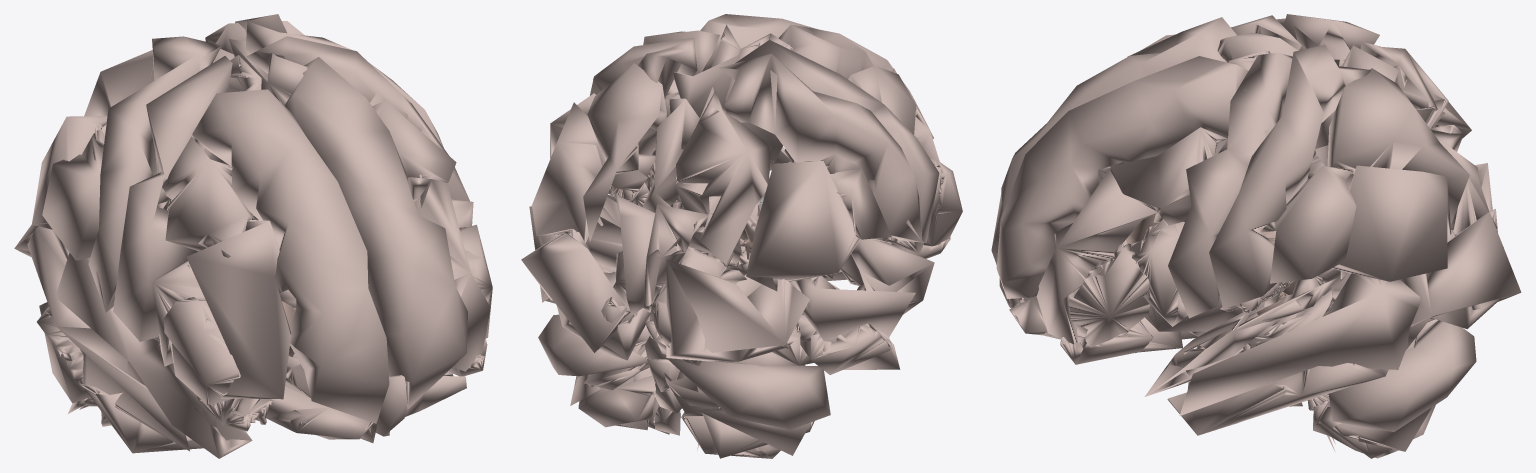
The model's file is atlas_nervous_mni152.nervous.LOD4.glb.
3 renders of one model, left to right at view 1: azimuth 30°, elevation 25°; view 2: azimuth 150°, elevation 25°; view 3: azimuth 270°, elevation 25°, orthographic. The views are drawn at different scales.
Parts seen in each view (by area): view 1: ATLAS.NERVOUS.MNI152.NERVOUS.SUPERIOR_FRONTAL_GYRUS.R, ATLAS.NERVOUS.MNI152.NERVOUS.SUPERIOR_FRONTAL_GYRUS.L, ATLAS.NERVOUS.MNI152.NERVOUS.PRECENTRAL_GYRUS.R, ATLAS.NERVOUS.MNI152.NERVOUS.ROSTRAL_MIDDLE_FRONTAL_GYRUS.R, ATLAS.NERVOUS.MNI152.NERVOUS.POSTCENTRAL_GYRUS.R, ATLAS.NERVOUS.MNI152.NERVOUS.SUPERIOR_TEMPORAL_GYRUS.R, ATLAS.NERVOUS.MNI152.NERVOUS.MIDDLE_TEMPORAL_GYRUS.R, ATLAS.NERVOUS.MNI152.NERVOUS.INFERIOR_FRONTAL_GYRUS_PARS_TRI (×2), ATLAS.NERVOUS.MNI152.NERVOUS.CAUDAL_MIDDLE_FRONTAL_GYRUS.R, ATLAS.NERVOUS.MNI152.NERVOUS.SUPRAMARGINAL_GYRUS.R, ATLAS.NERVOUS.MNI152.NERVOUS.PRECENTRAL_GYRUS.L, ATLAS.NERVOUS.MNI152.NERVOUS.ROSTRAL_MIDDLE_FRONTAL_GYRUS.L (+15 smaller); view 2: ATLAS.NERVOUS.MNI152.NERVOUS.INFERIOR_PARIETAL_LOBULE_ANGULA (×2), ATLAS.NERVOUS.MNI152.NERVOUS.POSTCENTRAL_GYRUS.R, ATLAS.NERVOUS.MNI152.NERVOUS.LATERAL_OCCIPITAL_CORTEX.R, ATLAS.NERVOUS.MNI152.NERVOUS.SUPERIOR_PARIETAL_LOBULE.R, ATLAS.NERVOUS.MNI152.NERVOUS.CRUS_I.R, ATLAS.NERVOUS.MNI152.NERVOUS.SUPERIOR_PARIETAL_LOBULE.L, ATLAS.NERVOUS.MNI152.NERVOUS.LATERAL_OCCIPITAL_CORTEX.L, ATLAS.NERVOUS.MNI152.NERVOUS.PRECENTRAL_GYRUS.R, ATLAS.NERVOUS.MNI152.NERVOUS.MIDDLE_TEMPORAL_GYRUS.R, ATLAS.NERVOUS.MNI152.NERVOUS.CUNEUS.R, ATLAS.NERVOUS.MNI152.NERVOUS.SUPERIOR_TEMPORAL_GYRUS.R, ATLAS.NERVOUS.MNI152.NERVOUS.INFERIOR_TEMPORAL_GYRUS.R (+33 smaller); view 3: ATLAS.NERVOUS.MNI152.NERVOUS.SUPERIOR_FRONTAL_GYRUS.L, ATLAS.NERVOUS.MNI152.NERVOUS.POSTCENTRAL_GYRUS.L, ATLAS.NERVOUS.MNI152.NERVOUS.MIDDLE_TEMPORAL_GYRUS.L, ATLAS.NERVOUS.MNI152.NERVOUS.PRECENTRAL_GYRUS.L, ATLAS.NERVOUS.MNI152.NERVOUS.INFERIOR_PARIETAL_LOBULE_ANGULA, ATLAS.NERVOUS.MNI152.NERVOUS.SUPERIOR_PARIETAL_LOBULE.L, ATLAS.NERVOUS.MNI152.NERVOUS.CRUS_I.L, ATLAS.NERVOUS.MNI152.NERVOUS.ROSTRAL_MIDDLE_FRONTAL_GYRUS.L, ATLAS.NERVOUS.MNI152.NERVOUS.LATERAL_OCCIPITAL_CORTEX.L, ATLAS.NERVOUS.MNI152.NERVOUS.SUPRAMARGINAL_GYRUS.L, ATLAS.NERVOUS.MNI152.NERVOUS.SUPERIOR_FRONTAL_GYRUS.R, ATLAS.NERVOUS.MNI152.NERVOUS.INFERIOR_TEMPORAL_GYRUS.L (+19 smaller).
Part boxes in pixels (x1,y1,x2,y2): ATLAS.NERVOUS.MNI152.NERVOUS.SUPERIOR_FRONTAL_GYRUS.R: (192,89,389,423); ATLAS.NERVOUS.MNI152.NERVOUS.SUPERIOR_FRONTAL_GYRUS.L: (284,57,467,409); ATLAS.NERVOUS.MNI152.NERVOUS.PRECENTRAL_GYRUS.R: (113,56,232,341); ATLAS.NERVOUS.MNI152.NERVOUS.ROSTRAL_MIDDLE_FRONTAL_GYRUS.R: (186,220,291,399); ATLAS.NERVOUS.MNI152.NERVOUS.POSTCENTRAL_GYRUS.R: (88,36,221,312); ATLAS.NERVOUS.MNI152.NERVOUS.SUPERIOR_TEMPORAL_GYRUS.R: (55,253,252,458); ATLAS.NERVOUS.MNI152.NERVOUS.MIDDLE_TEMPORAL_GYRUS.R: (27,226,189,451); ATLAS.NERVOUS.MNI152.NERVOUS.INFERIOR_FRONTAL_GYRUS_PARS_TRI (×2): (163,224,492,404); ATLAS.NERVOUS.MNI152.NERVOUS.CAUDAL_MIDDLE_FRONTAL_GYRUS.R: (162,136,255,257); ATLAS.NERVOUS.MNI152.NERVOUS.SUPRAMARGINAL_GYRUS.R: (42,127,104,260); ATLAS.NERVOUS.MNI152.NERVOUS.PRECENTRAL_GYRUS.L: (246,36,470,201); ATLAS.NERVOUS.MNI152.NERVOUS.ROSTRAL_MIDDLE_FRONTAL_GYRUS.L: (407,177,490,371); ATLAS.NERVOUS.MNI152.NERVOUS.INFERIOR_PARIETAL_LOBULE_ANGULA (×2): (532,102,860,291); ATLAS.NERVOUS.MNI152.NERVOUS.POSTCENTRAL_GYRUS.R: (719,53,922,241); ATLAS.NERVOUS.MNI152.NERVOUS.LATERAL_OCCIPITAL_CORTEX.R: (666,259,809,361); ATLAS.NERVOUS.MNI152.NERVOUS.SUPERIOR_PARIETAL_LOBULE.R: (676,91,771,264); ATLAS.NERVOUS.MNI152.NERVOUS.CRUS_I.R: (666,357,830,429); ATLAS.NERVOUS.MNI152.NERVOUS.SUPERIOR_PARIETAL_LOBULE.L: (583,63,666,241); ATLAS.NERVOUS.MNI152.NERVOUS.LATERAL_OCCIPITAL_CORTEX.L: (521,228,627,352); ATLAS.NERVOUS.MNI152.NERVOUS.PRECENTRAL_GYRUS.R: (735,40,939,242); ATLAS.NERVOUS.MNI152.NERVOUS.MIDDLE_TEMPORAL_GYRUS.R: (789,276,915,349); ATLAS.NERVOUS.MNI152.NERVOUS.CUNEUS.R: (643,204,734,312); ATLAS.NERVOUS.MNI152.NERVOUS.SUPERIOR_TEMPORAL_GYRUS.R: (851,239,934,314); ATLAS.NERVOUS.MNI152.NERVOUS.INFERIOR_TEMPORAL_GYRUS.R: (797,314,900,374); ATLAS.NERVOUS.MNI152.NERVOUS.SUPERIOR_FRONTAL_GYRUS.L: (996,56,1248,298); ATLAS.NERVOUS.MNI152.NERVOUS.POSTCENTRAL_GYRUS.L: (1209,45,1370,309); ATLAS.NERVOUS.MNI152.NERVOUS.MIDDLE_TEMPORAL_GYRUS.L: (1179,273,1420,415); ATLAS.NERVOUS.MNI152.NERVOUS.PRECENTRAL_GYRUS.L: (1168,52,1292,318); ATLAS.NERVOUS.MNI152.NERVOUS.INFERIOR_PARIETAL_LOBULE_ANGULA: (1332,165,1451,281); ATLAS.NERVOUS.MNI152.NERVOUS.SUPERIOR_PARIETAL_LOBULE.L: (1327,68,1469,224); ATLAS.NERVOUS.MNI152.NERVOUS.CRUS_I.L: (1329,320,1476,431); ATLAS.NERVOUS.MNI152.NERVOUS.ROSTRAL_MIDDLE_FRONTAL_GYRUS.L: (1036,162,1158,344); ATLAS.NERVOUS.MNI152.NERVOUS.LATERAL_OCCIPITAL_CORTEX.L: (1400,211,1521,350); ATLAS.NERVOUS.MNI152.NERVOUS.SUPRAMARGINAL_GYRUS.L: (1260,166,1356,283); ATLAS.NERVOUS.MNI152.NERVOUS.SUPERIOR_FRONTAL_GYRUS.R: (991,17,1236,264); ATLAS.NERVOUS.MNI152.NERVOUS.INFERIOR_TEMPORAL_GYRUS.L: (1167,363,1388,435).
Bounding box in the file's own units: 0.1445 × 0.1575 × 0.1823.
